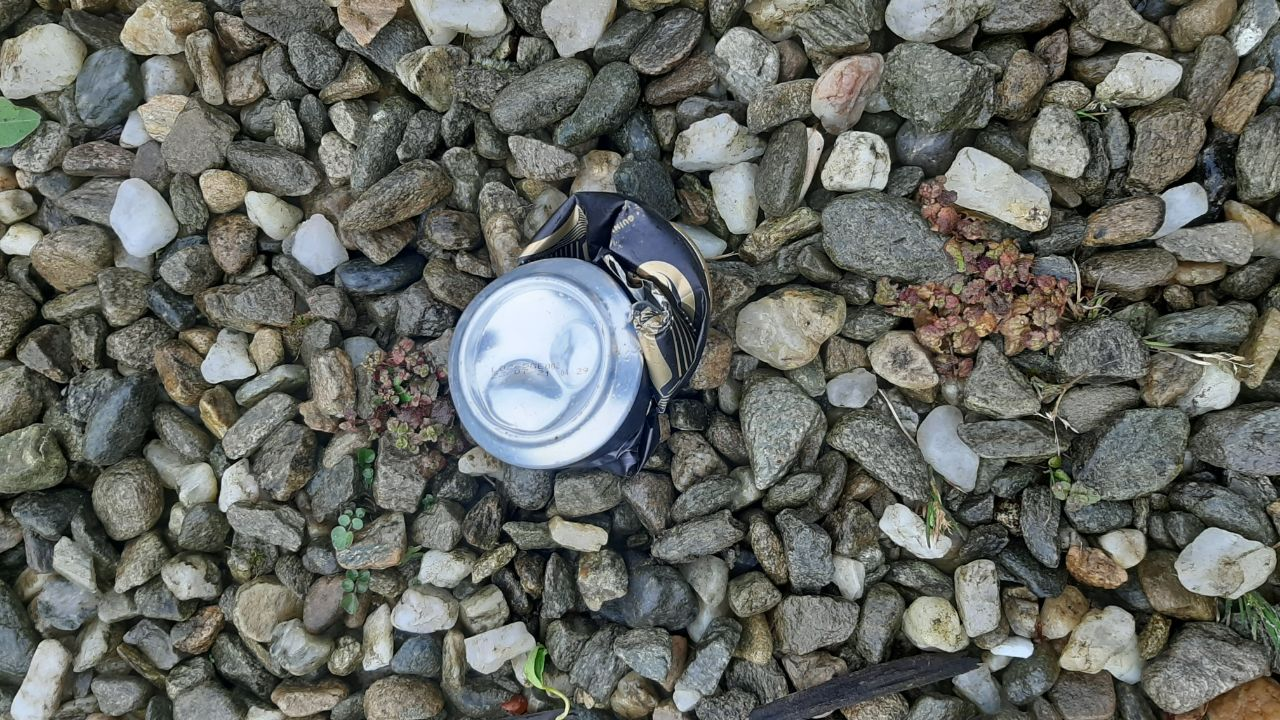Can: (445, 189, 715, 478)
